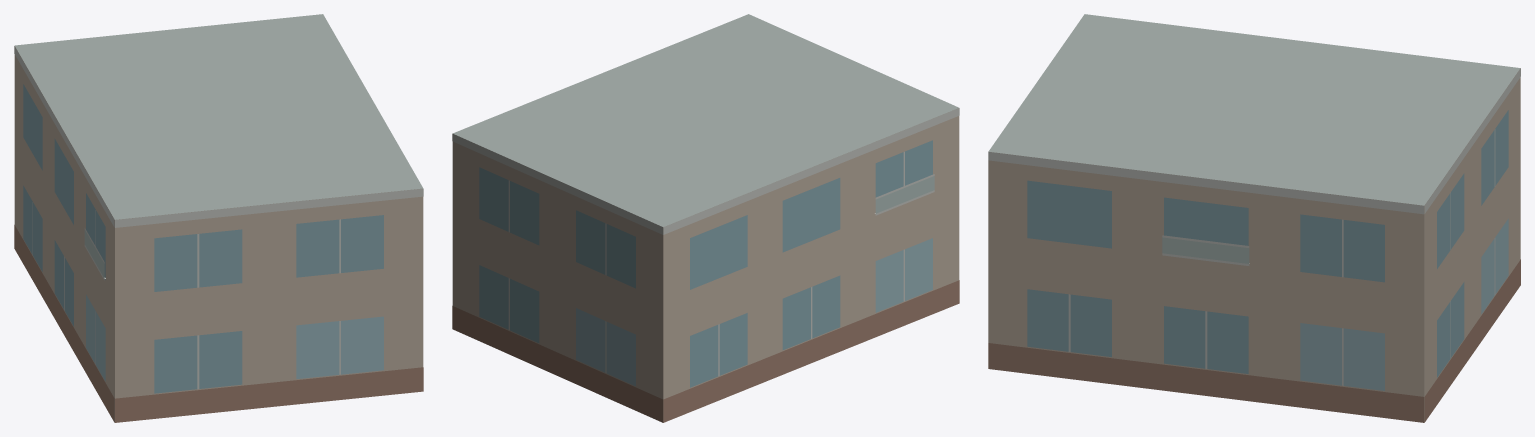
The model's file is survey-upis-32935286.glb.
3 renders of one model, left to right at view 1: azimuth 30°, elevation 25°; view 2: azimuth 150°, elevation 25°; view 3: azimuth 270°, elevation 25°, orthographic. The views are drawn at different scales.
Visible parts, largest first — view 1: survey-upis-32935286.tmp; view 2: survey-upis-32935286.tmp; view 3: survey-upis-32935286.tmp.
Boxes of the visible parts, x1=… form: survey-upis-32935286.tmp: x1=14, y1=14, x2=423, y2=422; survey-upis-32935286.tmp: x1=452, y1=14, x2=959, y2=422; survey-upis-32935286.tmp: x1=988, y1=14, x2=1520, y2=422.
Bounding box in the file's own units: 11.56 × 6.1 × 13.56.
